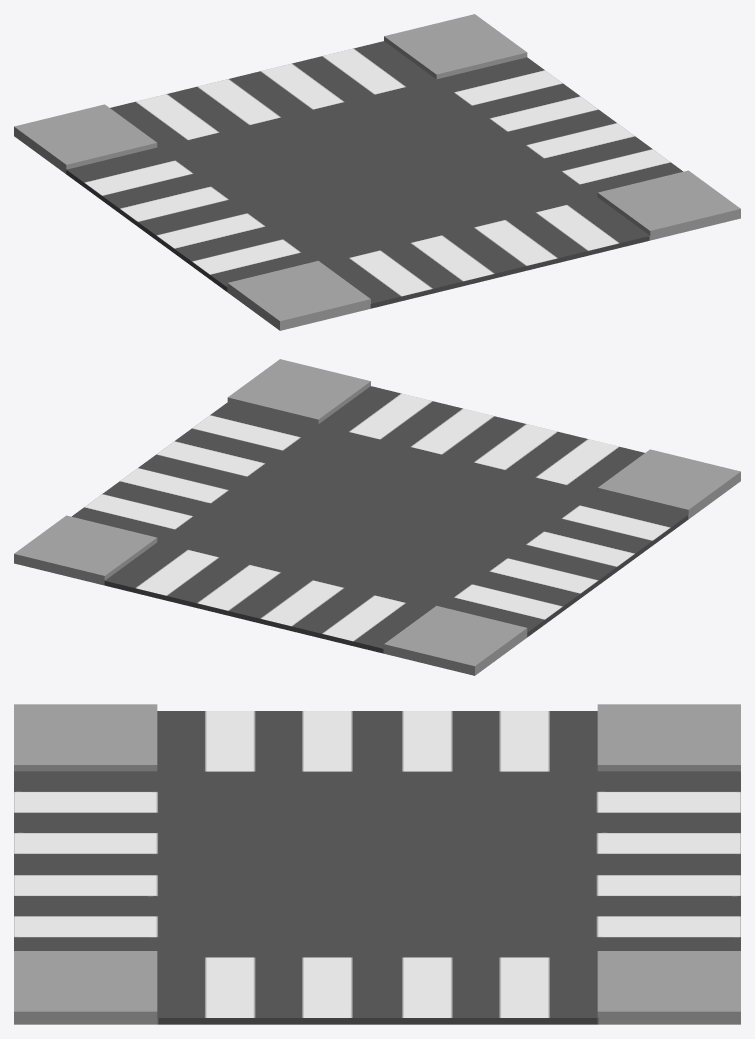
The model's file is RoadModule03.glb.
3 views of the same model, one above another, from view 1: azimuth 30°, elevation 25°; view 2: azimuth 150°, elevation 25°; view 3: azimuth 270°, elevation 25° (orthographic). The views are drawn at different scales.
Parts seen in each view (by area): view 1: RoadModule03; view 2: RoadModule03; view 3: RoadModule03.
Boxes of the visible parts, x1,y1,x2,y2 form: RoadModule03: (14, 14, 740, 330); RoadModule03: (14, 359, 740, 675); RoadModule03: (14, 704, 740, 1024).
Size of what is drawn, in the model's own units: 10 by 0.2 by 10.
Materials: 1 (1 with a texture image).
